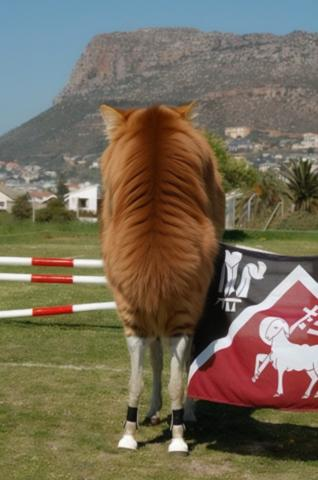cat: (99, 101, 225, 337)
horse: (116, 176, 212, 458)
